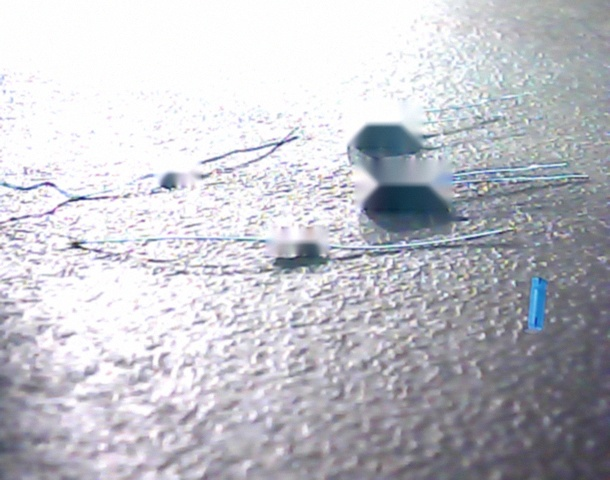capacitor: (523, 276, 548, 334)
